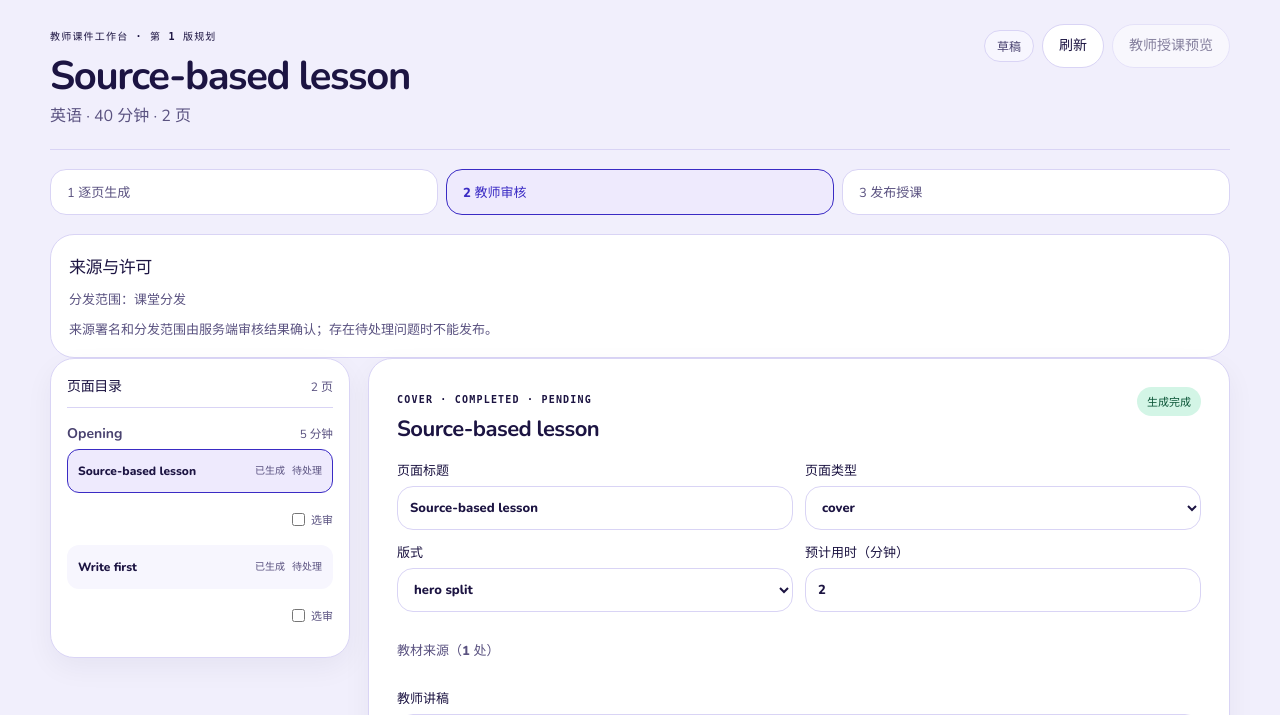
Test: user Given unsaved teacher edits When another page needs repair Then page navigation cannot discard those edits
Type " 教师修改" into the field labelled "页面标题" at {"x": 595, "y": 508}, box [397,486,793,530]
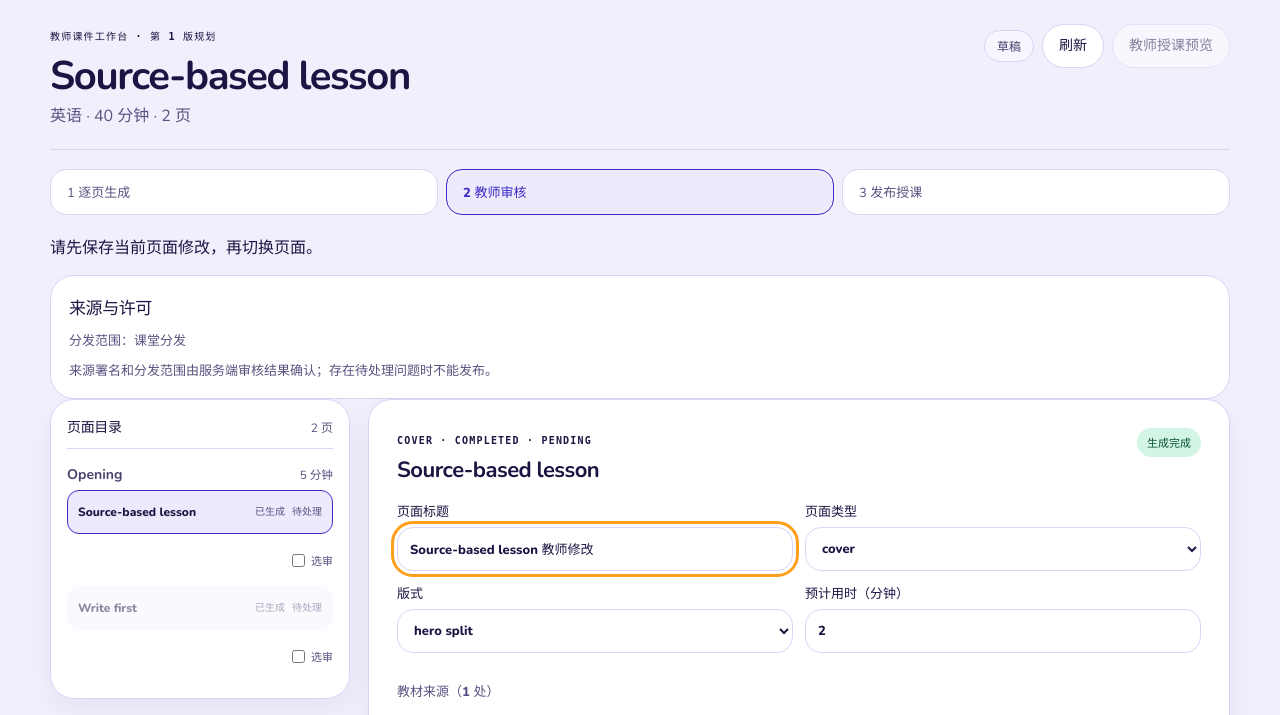
Expected: the button "Write first 已生成 待处理" is disabled, [67,586,333,630]
Expected: the field labelled "页面标题" holds "Source-based lesson 教师修改", [397,527,793,571]
Expected: the text "请先保存当前页面修改，再切换页面。" is shown, [50,237,322,259]
